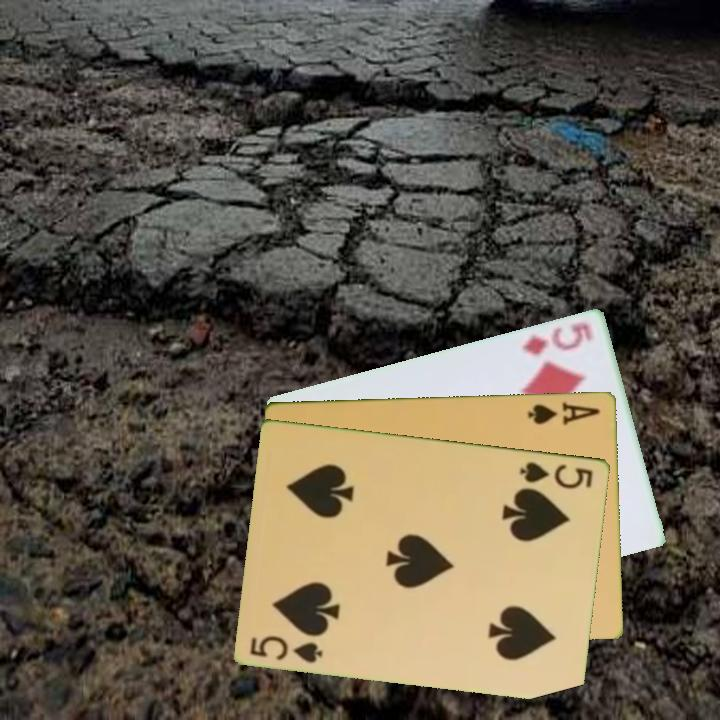5d: (519, 317, 596, 358)
5s: (247, 631, 326, 666), (516, 458, 596, 492)
As: (525, 398, 603, 428)
